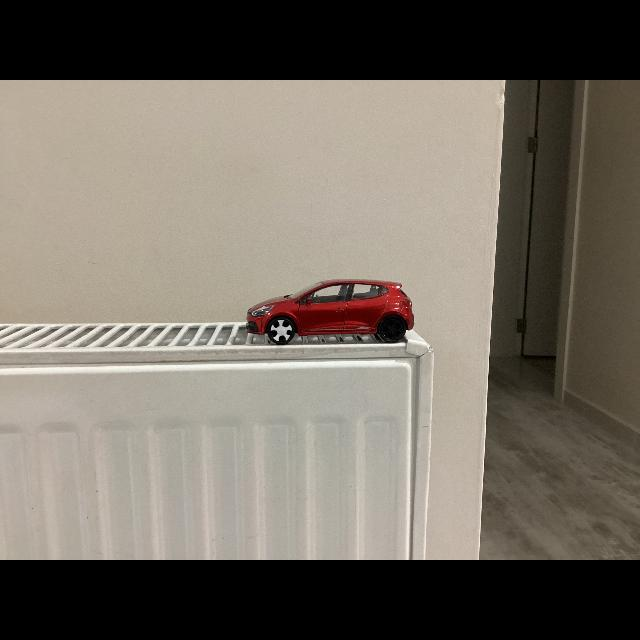Dogru_Jant: (383, 321, 402, 339)
Yanlis_Jant: (269, 318, 293, 342)
